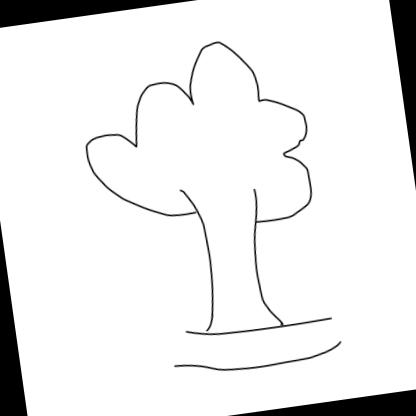crown_cloud: (75, 32, 319, 244)
root_none: (194, 302, 296, 362)
trunk_straight: (200, 213, 268, 313)
